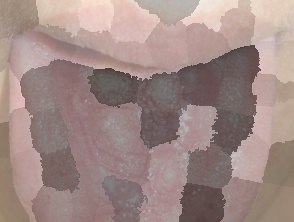SJS-TEN: (49, 39, 216, 222)
